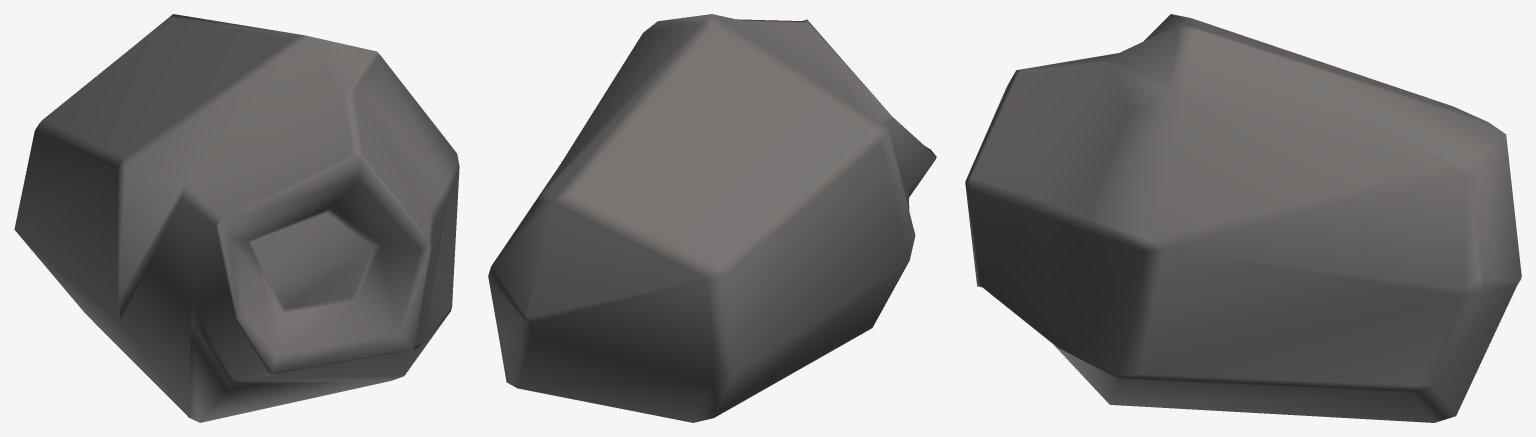
File: Asteroid2.glb
3 views of the same model, side by side, from view 1: azimuth 30°, elevation 25°; view 2: azimuth 150°, elevation 25°; view 3: azimuth 270°, elevation 25° (orthographic). The views are drawn at different scales.
Visible parts, largest first — view 1: Аsteroid_02; view 2: Аsteroid_02; view 3: Аsteroid_02.
Boxes of the visible parts, <box> form: Аsteroid_02: <box>14,14,459,422</box>; Аsteroid_02: <box>488,14,936,422</box>; Аsteroid_02: <box>965,14,1521,422</box>.
Bounding box in the file's own units: 6.83 × 6.42 × 9.15.
Materials: 1 (1 with a texture image).
